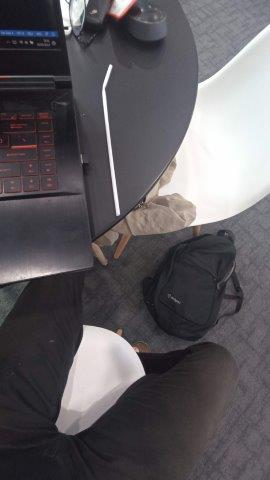sedotan: (101, 66, 120, 216)
